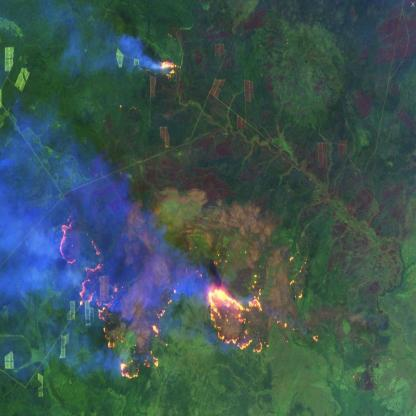fire: (57, 214, 180, 385), (204, 280, 274, 358), (158, 53, 182, 80)
